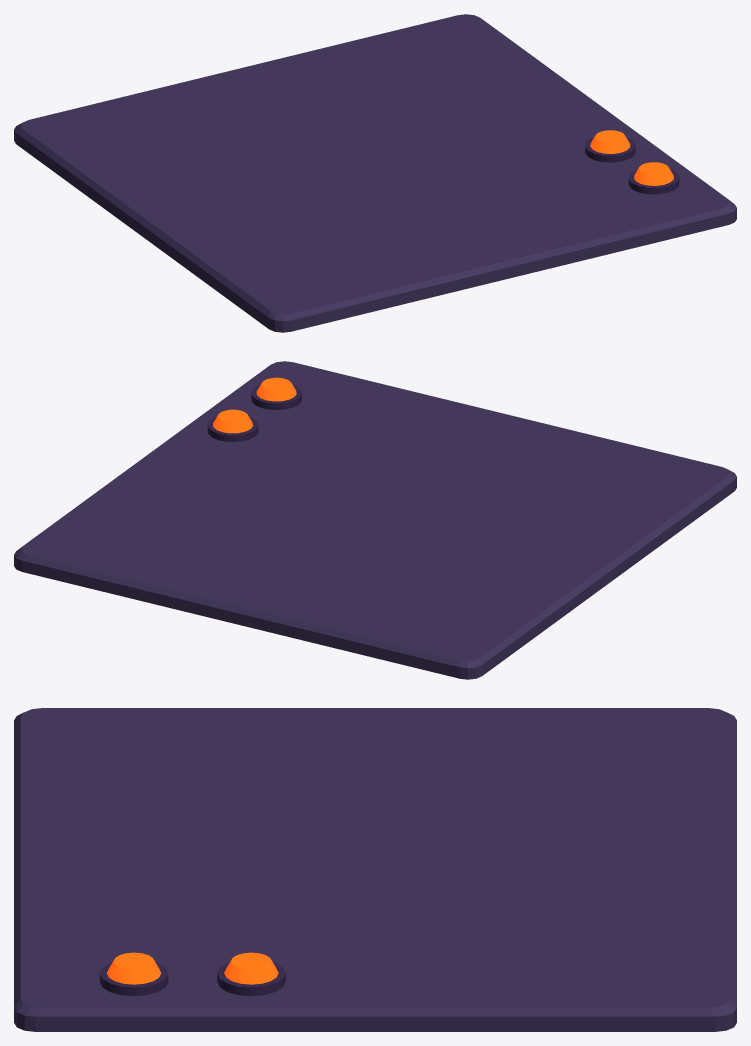
File: stove.fbx
The picture shows the model from 3 angles, top to bottom: view 1: azimuth 30°, elevation 25°; view 2: azimuth 150°, elevation 25°; view 3: azimuth 270°, elevation 25°; orthographic projection. The views are drawn at different scales.
Visible parts, largest first — view 1: stove; view 2: stove; view 3: stove.
Part boxes in pixels (bbox=[...]): stove: bbox=[14, 14, 736, 332]; stove: bbox=[14, 361, 736, 679]; stove: bbox=[14, 708, 736, 1031].
Bounding box in the file's own units: 9.22 × 0.5882 × 9.22.
